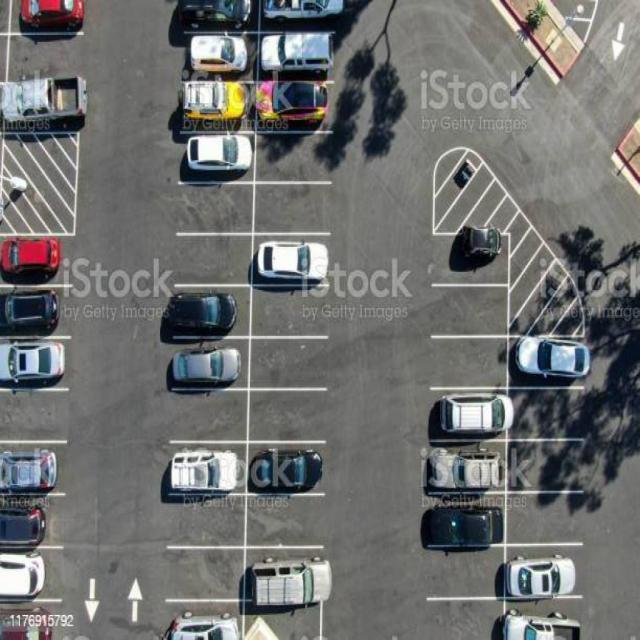space-empty: (505, 440, 586, 495), (503, 493, 589, 544), (245, 497, 325, 549), (248, 388, 327, 439), (248, 285, 330, 334), (247, 337, 328, 385), (508, 388, 584, 439), (425, 547, 505, 595), (0, 392, 69, 447), (171, 236, 251, 282), (433, 340, 509, 388), (179, 182, 254, 230), (169, 494, 242, 542), (433, 290, 509, 336), (255, 186, 331, 232), (161, 553, 241, 596), (168, 390, 247, 433), (424, 601, 508, 639), (256, 134, 332, 176), (9, 31, 82, 72)
space-occupied: (428, 440, 504, 499), (168, 279, 251, 332), (1, 76, 84, 129), (505, 546, 588, 597), (241, 550, 321, 602), (0, 338, 72, 392), (432, 391, 508, 442), (0, 283, 73, 336), (261, 31, 339, 80), (170, 340, 254, 385), (252, 236, 333, 282), (428, 497, 504, 545), (508, 338, 589, 383), (248, 443, 327, 488), (168, 442, 244, 488), (0, 500, 68, 551), (507, 597, 589, 639), (181, 82, 259, 125), (0, 447, 68, 496), (181, 134, 254, 179), (261, 82, 334, 127), (435, 236, 505, 282), (181, 34, 257, 76), (0, 239, 74, 280), (0, 552, 63, 598), (164, 606, 242, 639), (6, 0, 82, 32), (180, 0, 258, 31), (259, 0, 341, 29), (244, 608, 322, 638), (0, 606, 64, 639)
